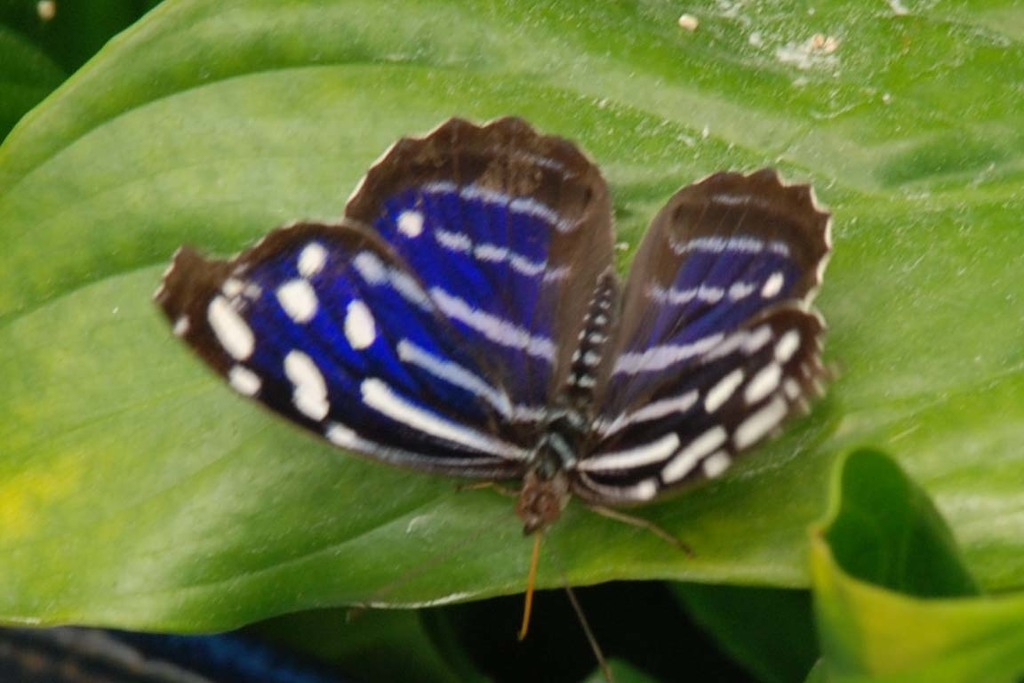Butterfly: (139, 103, 875, 594)
